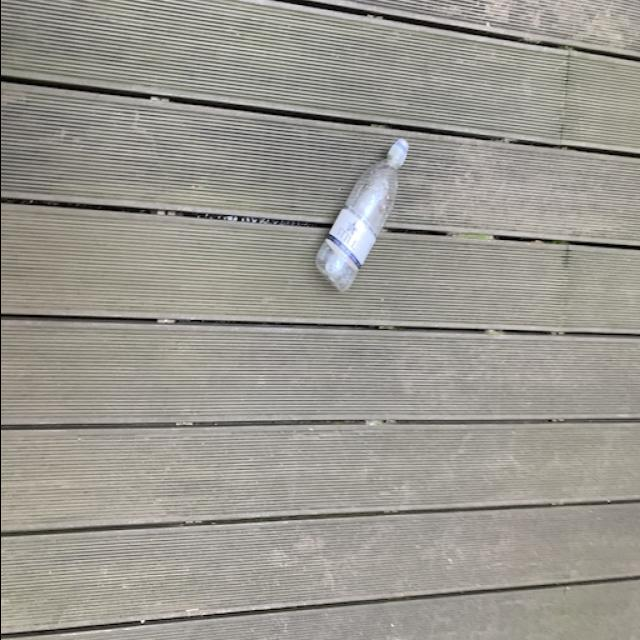PET: (310, 139, 408, 300)
